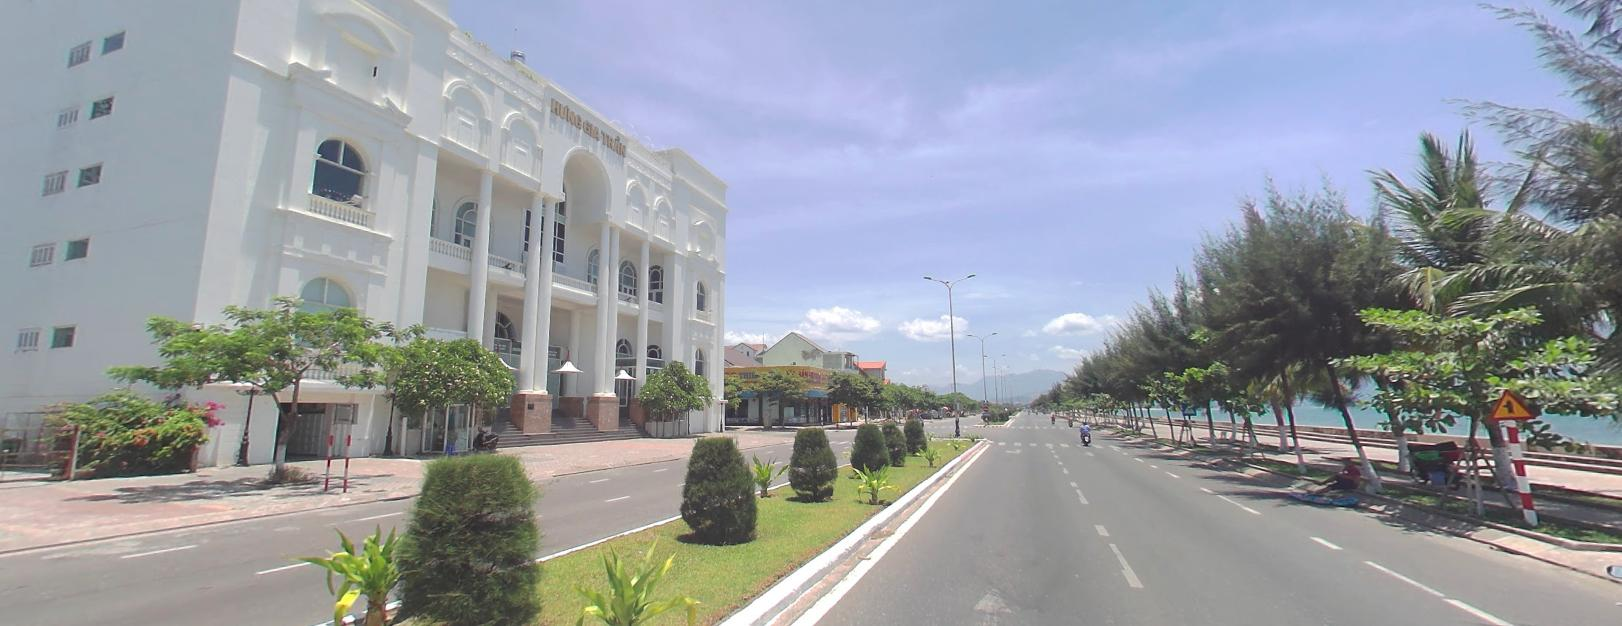Cam nguoc chieu: (983, 404, 988, 409)
Nguy hiem: (1488, 386, 1537, 417)
